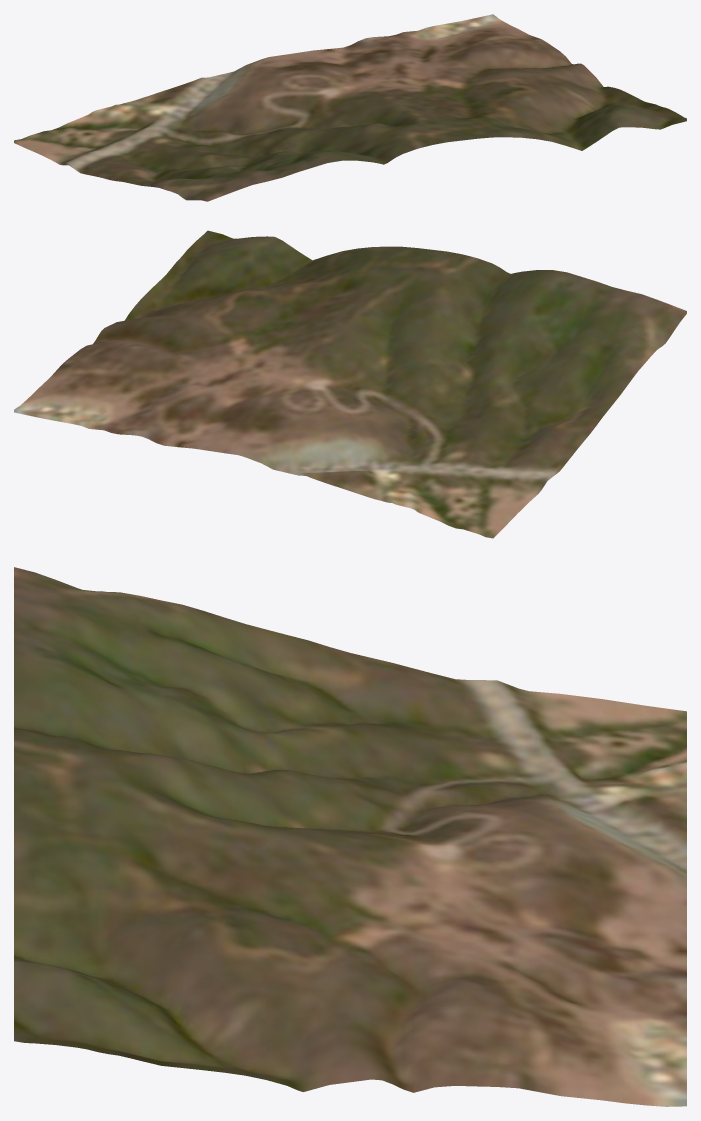
The model's file is terrain_r7_c4_lod1.glb.
The picture shows the model from 3 angles, top to bottom: view 1: azimuth 30°, elevation 25°; view 2: azimuth 150°, elevation 25°; view 3: azimuth 270°, elevation 25°; orthographic projection. The views are drawn at different scales.
Visible parts, largest first — view 1: terrain_r7_c4_lod1; view 2: terrain_r7_c4_lod1; view 3: terrain_r7_c4_lod1.
Part boxes in pixels (x1=…): terrain_r7_c4_lod1: x1=14, y1=14, x2=686, y2=201; terrain_r7_c4_lod1: x1=14, y1=230, x2=686, y2=538; terrain_r7_c4_lod1: x1=14, y1=567, x2=686, y2=1106.
Size of the model in its own units: 1125 by 215 by 787.
Materials: 1 (1 with a texture image).
